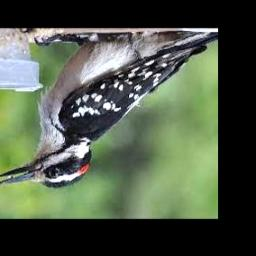Woodpecker: (0, 32, 218, 188)
